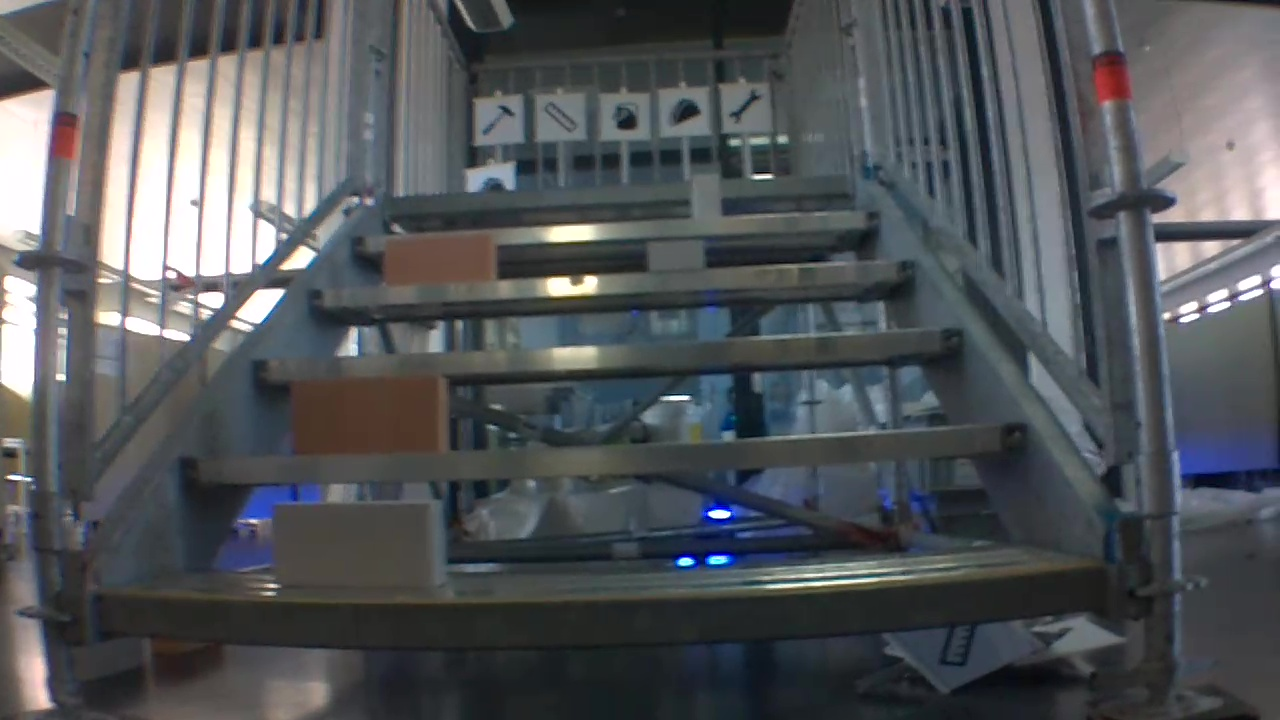brick: (273, 501, 443, 588), (294, 376, 448, 450), (384, 234, 495, 280), (648, 241, 702, 270), (691, 173, 720, 219)
bucket: (608, 97, 641, 134)
edge: (97, 566, 1099, 645), (179, 422, 1030, 484), (252, 328, 962, 380), (305, 258, 916, 305), (352, 209, 877, 252), (389, 176, 850, 202)
hammer: (476, 100, 519, 140)
ruler: (537, 97, 581, 136)
stairs: (16, 1, 1261, 716)
steps: (87, 168, 1108, 655)
taco: (666, 92, 703, 129)
wrench: (719, 84, 768, 129)
